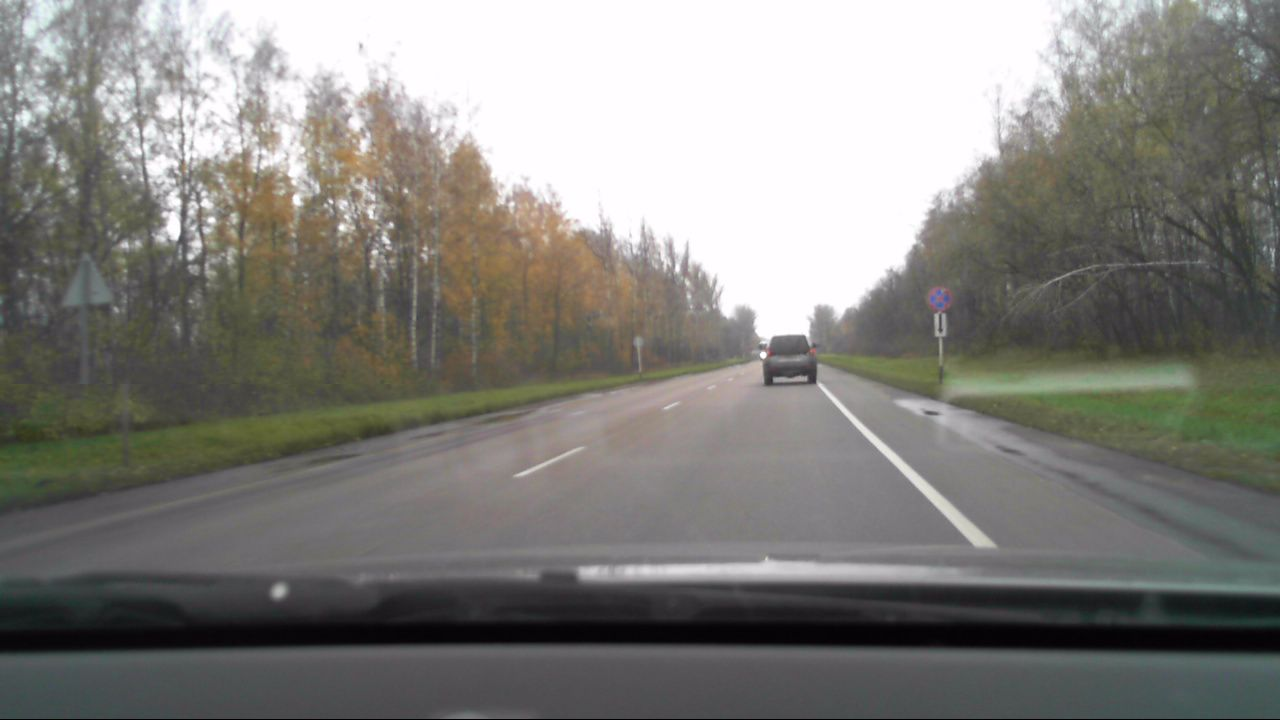No Parking: (924, 286, 951, 310)
